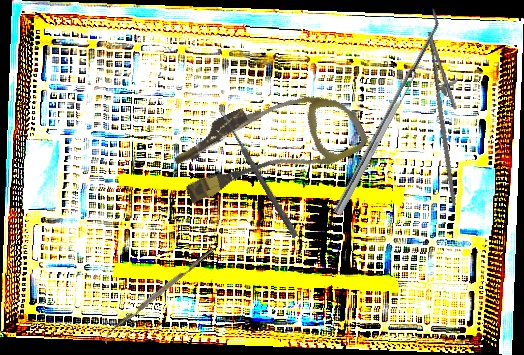Cannula: (164, 64, 372, 225)
Chopper: (99, 248, 218, 345)
Needle Holder: (407, 28, 489, 206)
Spatula Surgical: (325, 8, 448, 216)
Surgical Spoon: (217, 108, 300, 239)
